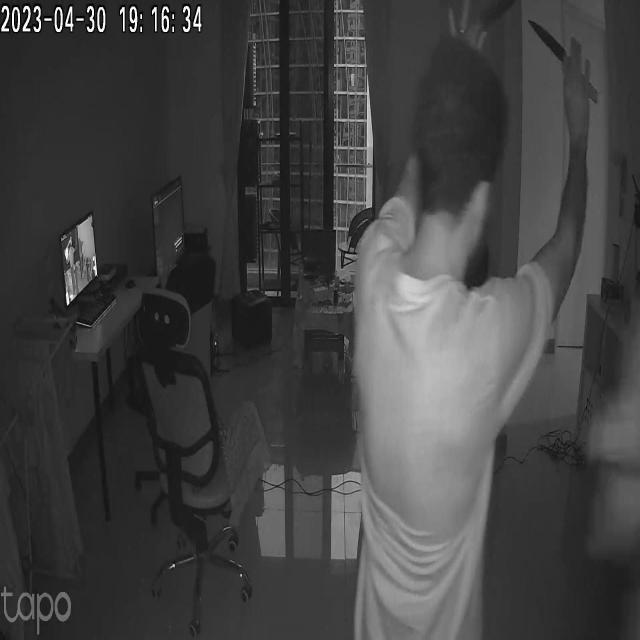Knife: (526, 15, 613, 108)
